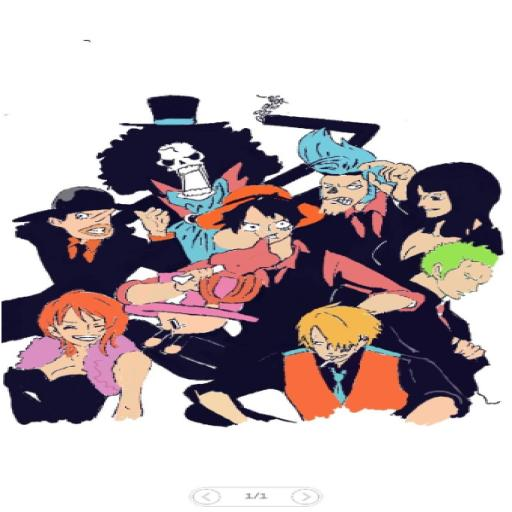Nami: (32, 290, 136, 355)
NicoRobin: (402, 160, 512, 234)
Usopp: (36, 180, 141, 248)
Zoro: (404, 246, 502, 299)
sanji: (282, 303, 392, 373)
